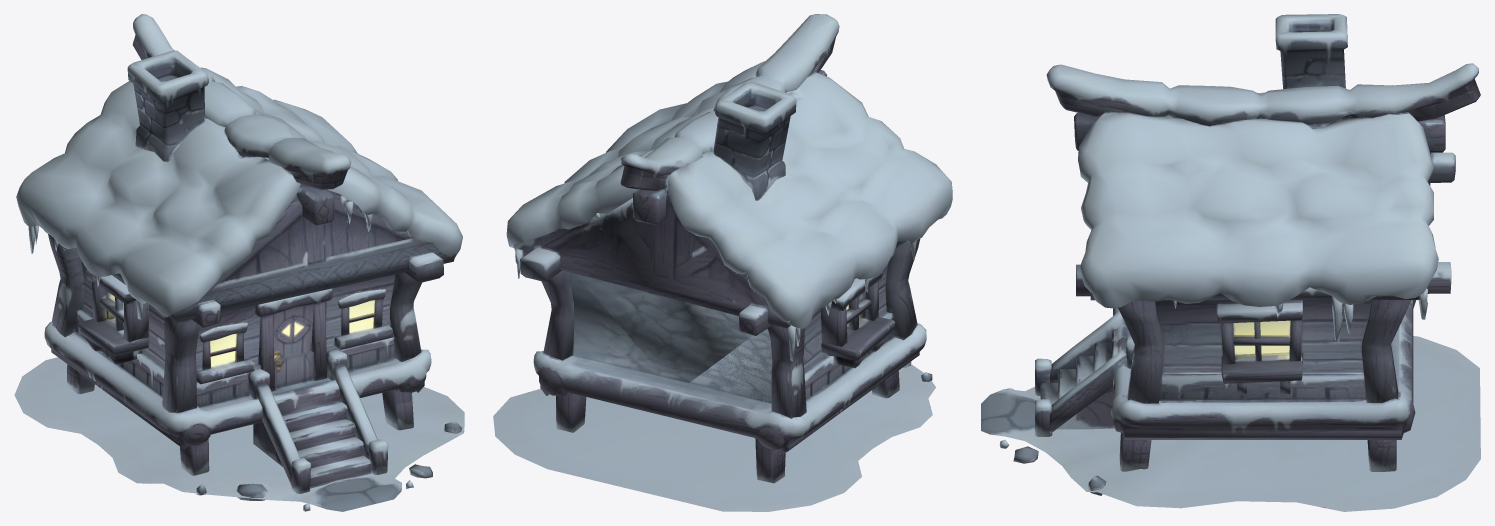
Rendered from 019e9aea-ec2f-7a14-9d12-a3c746e0eb88.glb.
3 renders of one model, left to right at view 1: azimuth 30°, elevation 25°; view 2: azimuth 150°, elevation 25°; view 3: azimuth 270°, elevation 25°, orthographic. The views are drawn at different scales.
Parts seen in each view (by area): view 1: tripo_node_7a765417-c2e5-4321-bc17-28b6dabd07a3; view 2: tripo_node_7a765417-c2e5-4321-bc17-28b6dabd07a3; view 3: tripo_node_7a765417-c2e5-4321-bc17-28b6dabd07a3.
Boxes of the visible parts, <box> form: tripo_node_7a765417-c2e5-4321-bc17-28b6dabd07a3: <box>14,14,464,511</box>; tripo_node_7a765417-c2e5-4321-bc17-28b6dabd07a3: <box>493,14,952,511</box>; tripo_node_7a765417-c2e5-4321-bc17-28b6dabd07a3: <box>981,14,1480,511</box>.
Bounding box in the file's own units: 0.8574 × 0.8223 × 0.998.
Materials: 1 (1 with a texture image).
